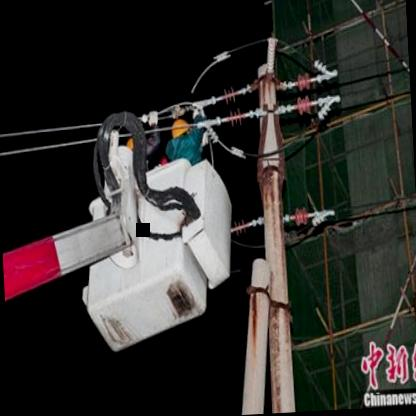helmet: (169, 111, 196, 145)
